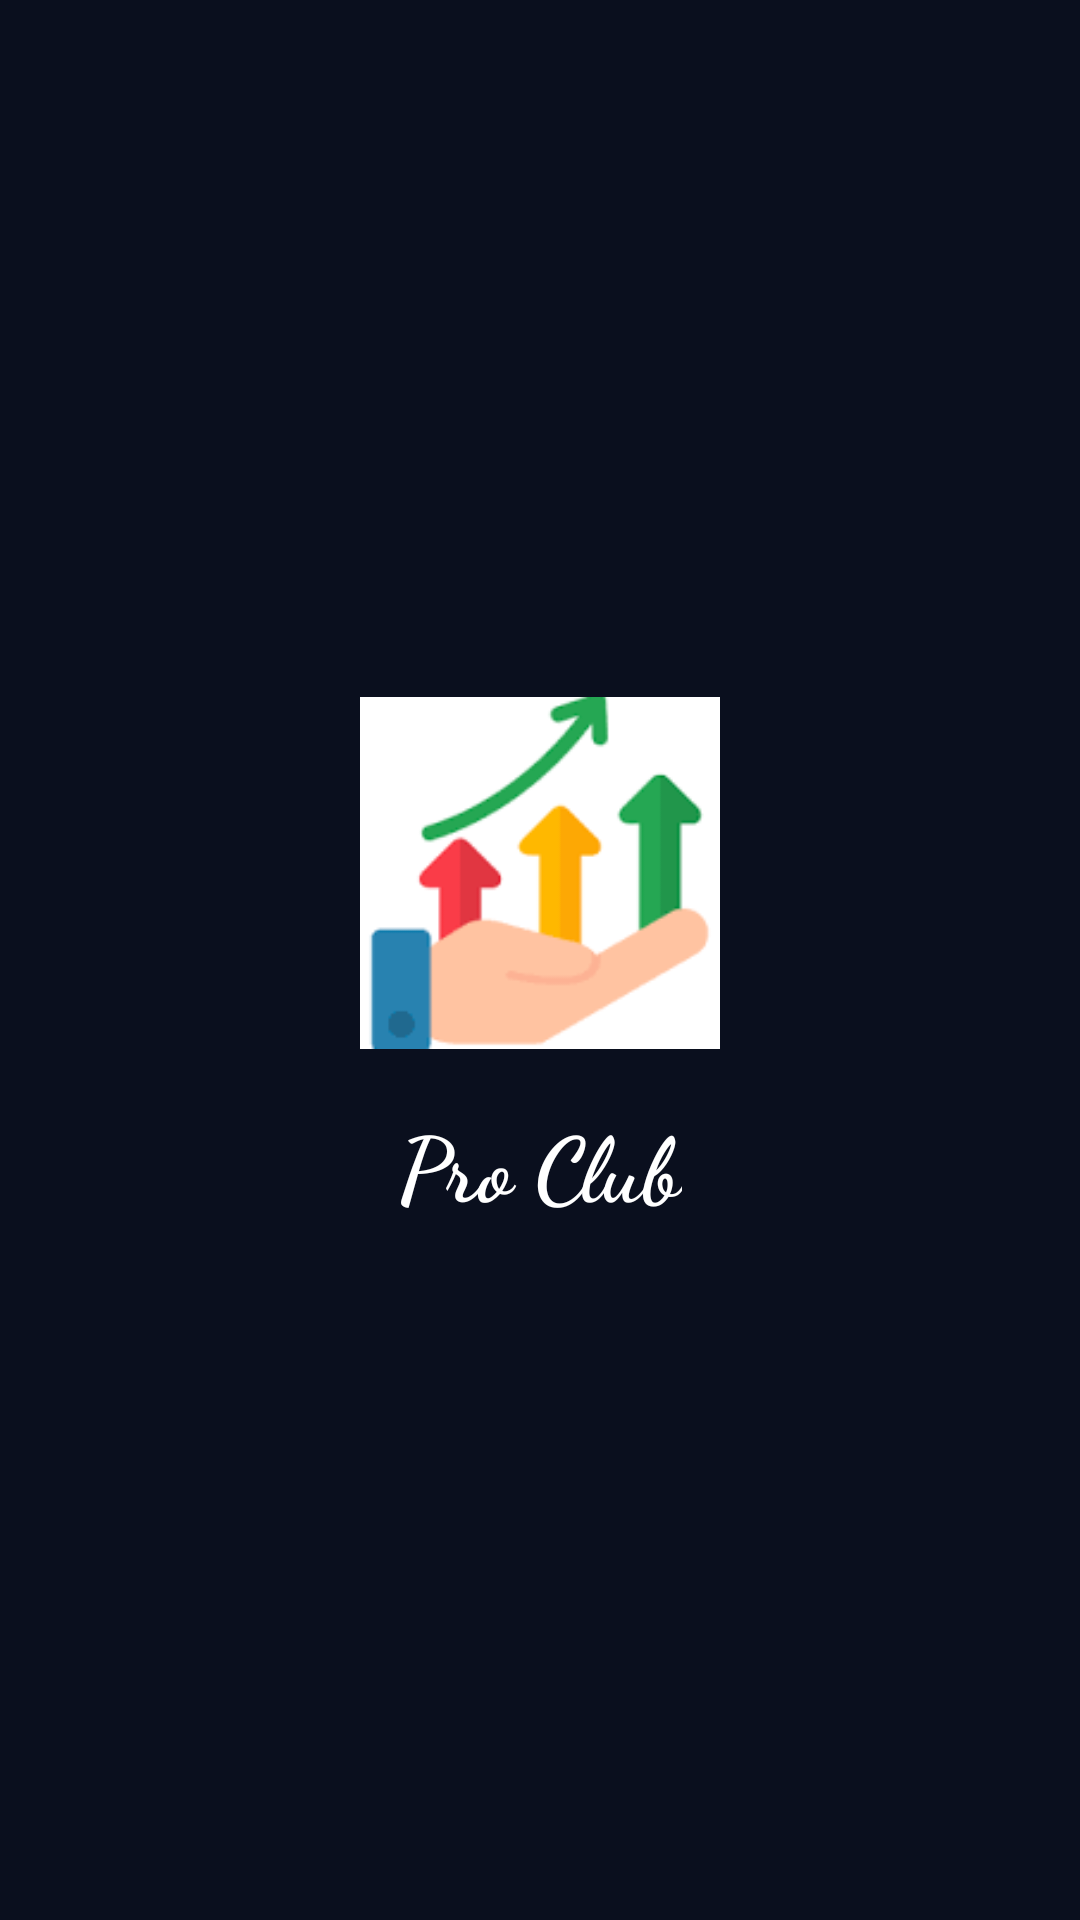

Locate icon controls on the screen. Image size 1080*1920, boxes as (x1, y1, x2, y2).
app: (360, 697, 720, 1049)
